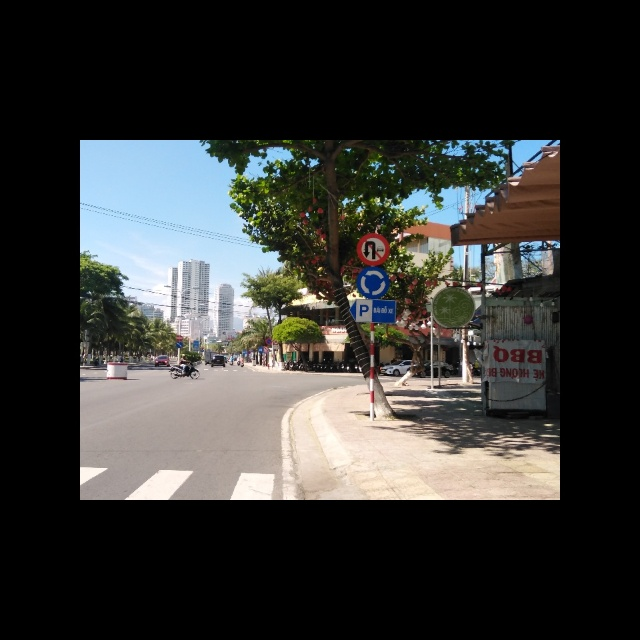Cấm xe ô tô quay đầu: (357, 234, 391, 265)
Nơi giao nhau chạy theo vòng xuyến: (356, 266, 390, 299)
Nơi đỗ xe: (348, 299, 396, 326)
